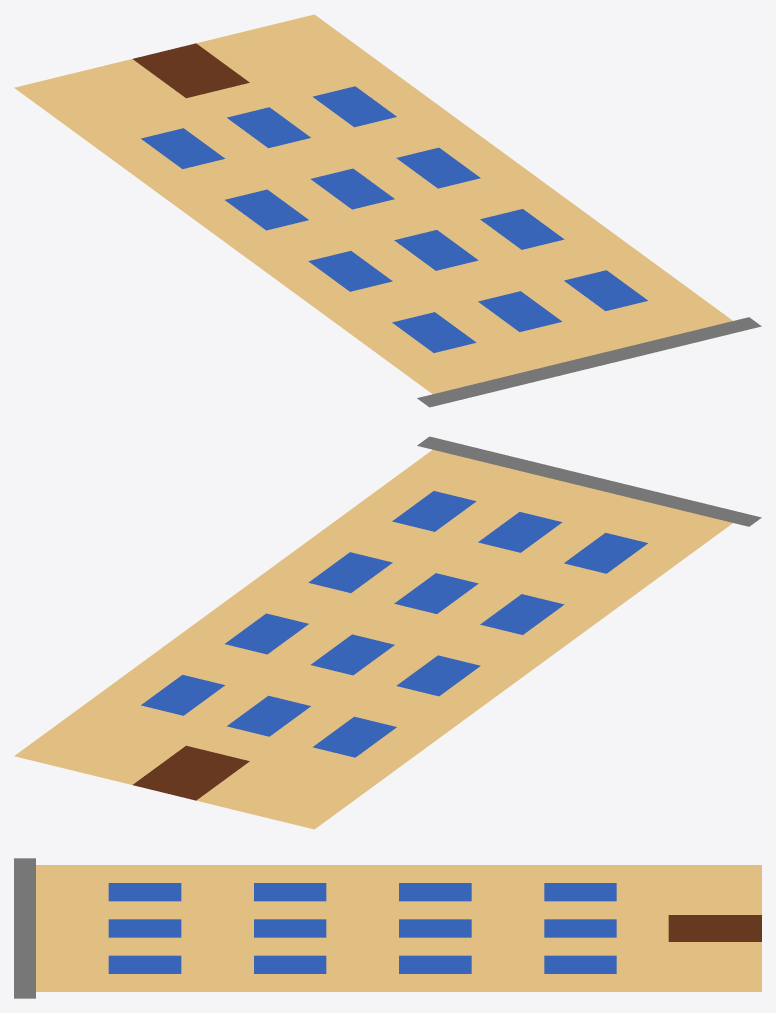
The model's file is edificio.obj.
The picture shows the model from 3 angles, top to bottom: view 1: azimuth 30°, elevation 25°; view 2: azimuth 150°, elevation 25°; view 3: azimuth 270°, elevation 25°; orthographic projection. The views are drawn at different scales.
Parts seen in each view (by area): view 1: Plane; view 2: Plane; view 3: Plane.
Part boxes in pixels (bbox=[...]): Plane: bbox=[14, 14, 761, 407]; Plane: bbox=[14, 436, 761, 829]; Plane: bbox=[14, 858, 761, 998].
Size of the model in its own units: 2.21 by 0 by 4.97.
